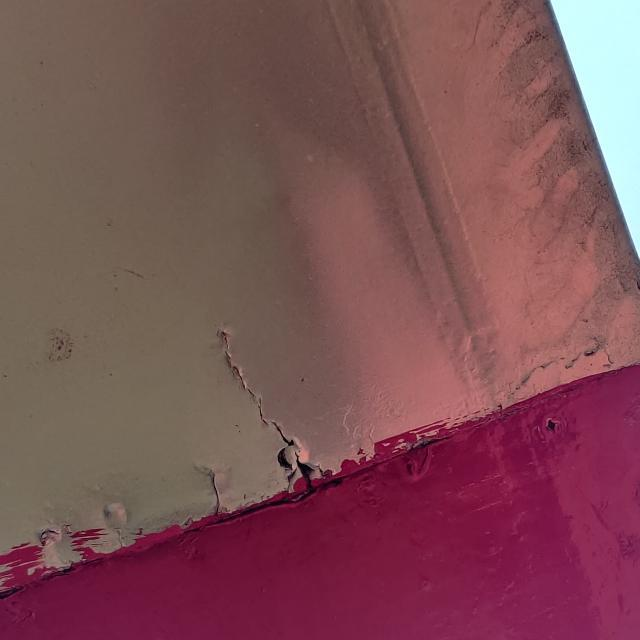crack: (208, 316, 340, 504), (197, 460, 238, 526)
